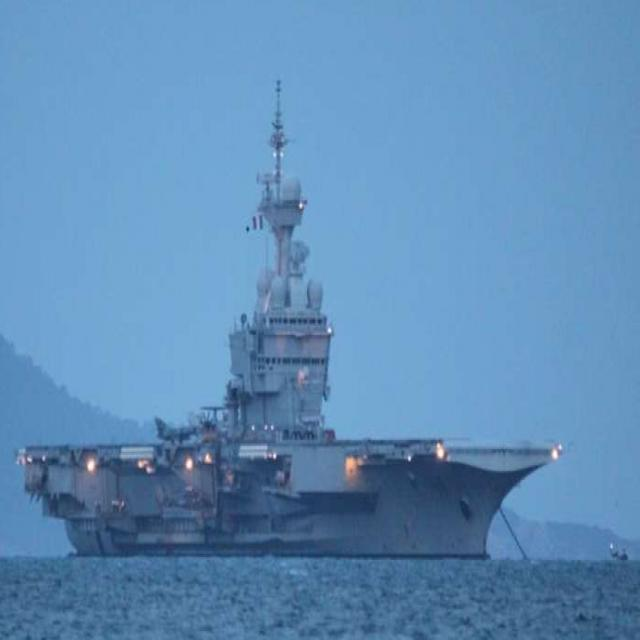Portanaves: (14, 69, 566, 569)
